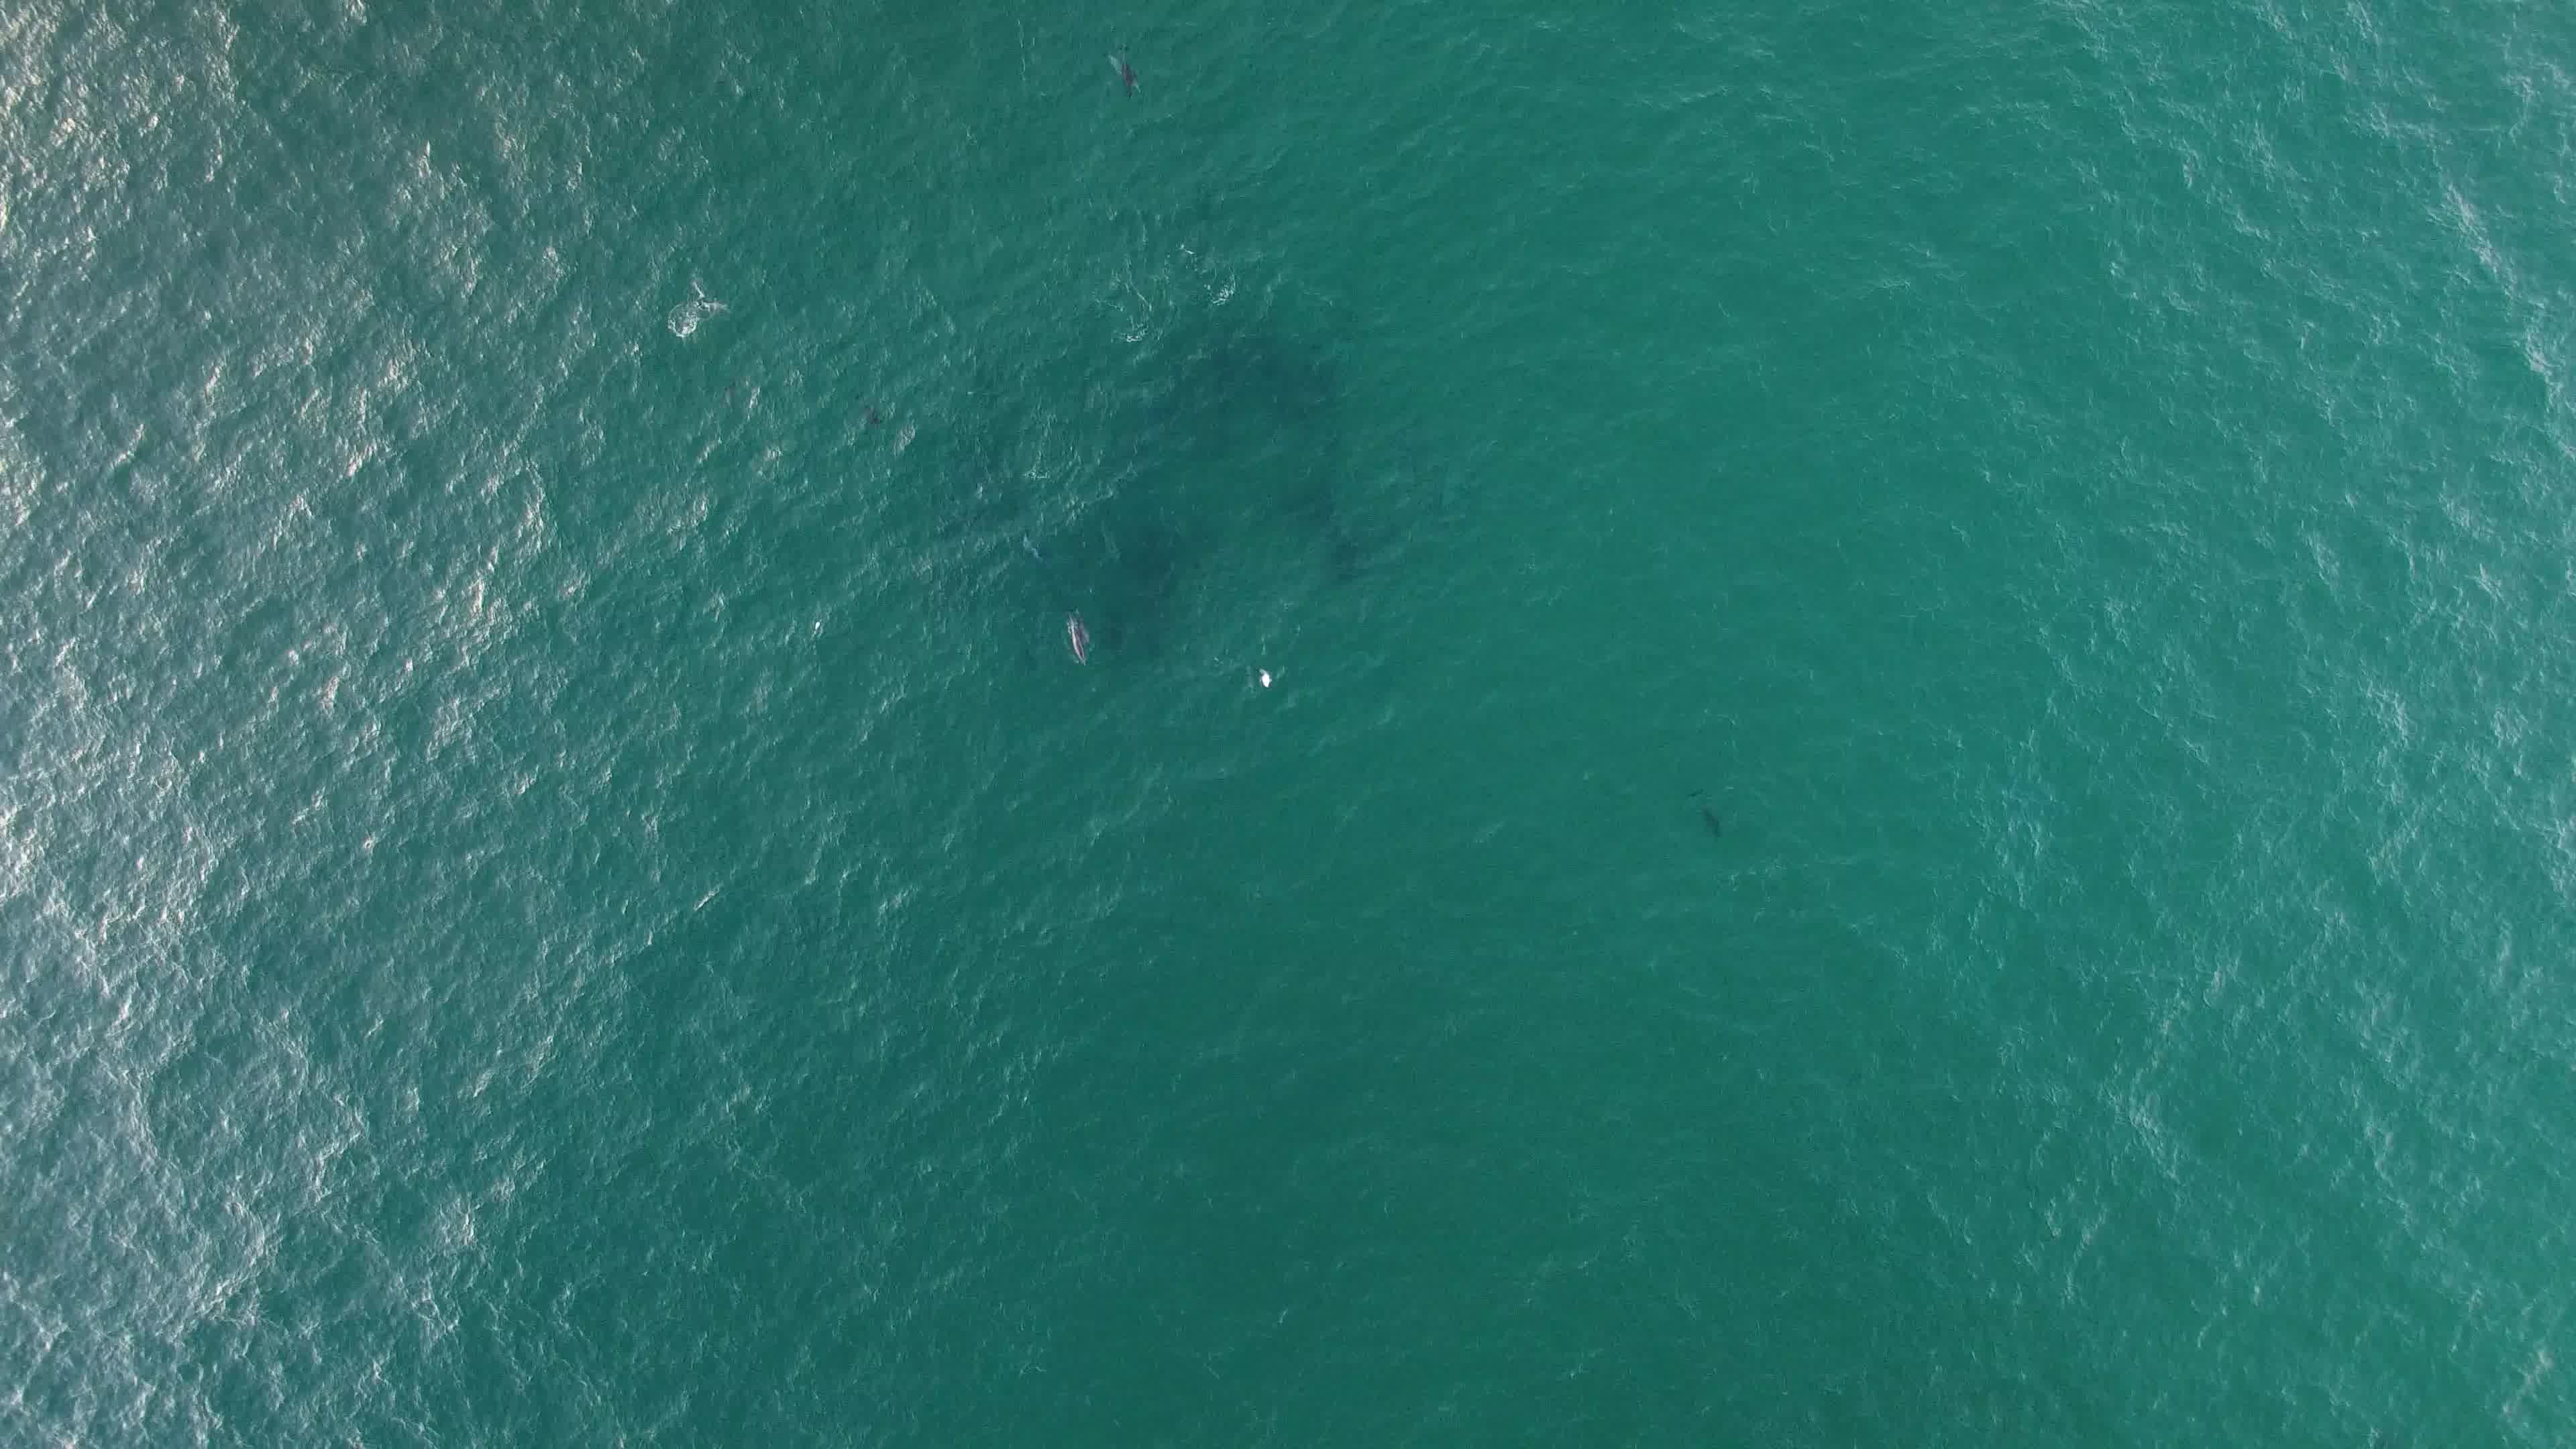dolphin: (1675, 777, 1750, 855), (1040, 586, 1102, 672), (1092, 27, 1146, 111)
